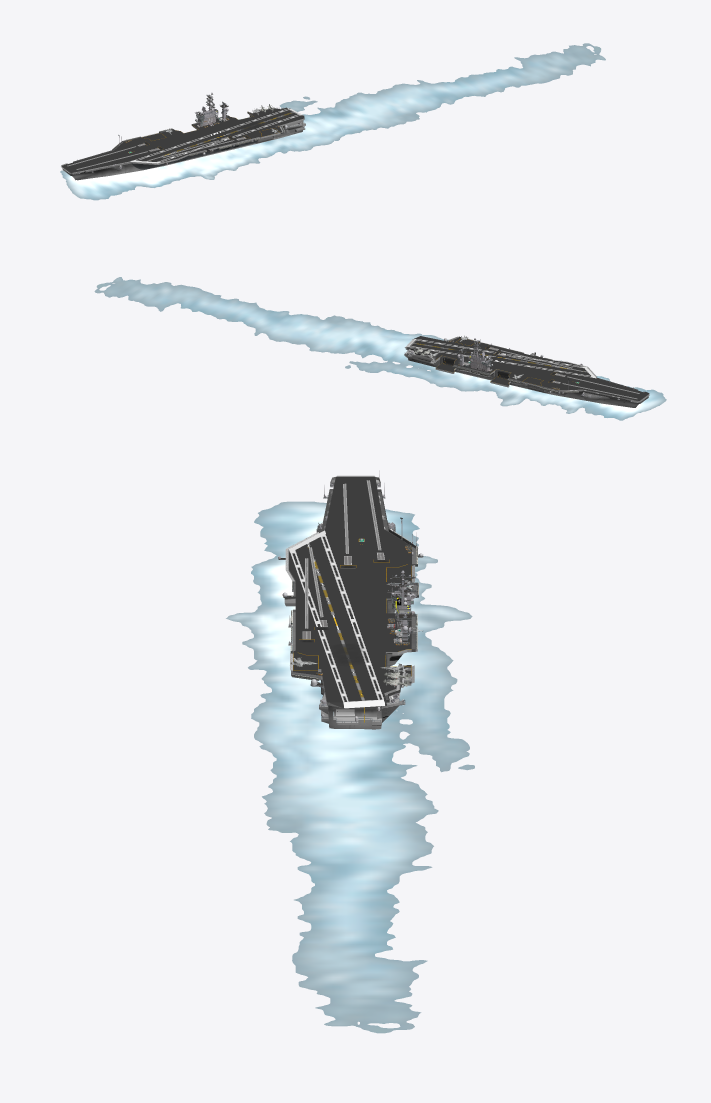
Rendered from vinson.glb.
3 renders of one model, top to bottom at view 1: azimuth 30°, elevation 25°; view 2: azimuth 150°, elevation 25°; view 3: azimuth 270°, elevation 25°, orthographic. The views are drawn at different scales.
Parts seen in each view (by area): view 1: Wake, deck-5-surf, Deck-4, Hull-Port, Sponson-Port, Deck-Underside; view 2: Wake, deck-5-surf, Deck-4, Hull_Stbd, Deck-Underside; view 3: Wake, deck-5-surf, Deck-4.
Boxes of the visible parts, box(x1,y1,x2,y2) form: Wake: box(60, 43, 605, 200); deck-5-surf: box(62, 108, 304, 172); Deck-4: box(130, 108, 300, 163); Hull-Port: box(66, 120, 303, 180); Sponson-Port: box(131, 140, 257, 169); Deck-Underside: box(61, 112, 304, 173); Wake: box(94, 277, 666, 420); deck-5-surf: box(409, 336, 648, 400); Deck-4: box(409, 339, 596, 378); Hull_Stbd: box(408, 357, 644, 407); Deck-Underside: box(405, 347, 649, 402); Wake: box(226, 501, 474, 1033); deck-5-surf: box(288, 476, 411, 702); Deck-4: box(289, 530, 384, 702).
Bounding box in the file's own units: 872 × 60.76 × 169.
103 materials, 86 textured.
